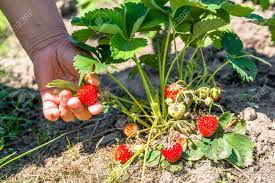Fresa: (194, 112, 220, 139), (75, 83, 101, 107), (160, 141, 185, 165)
